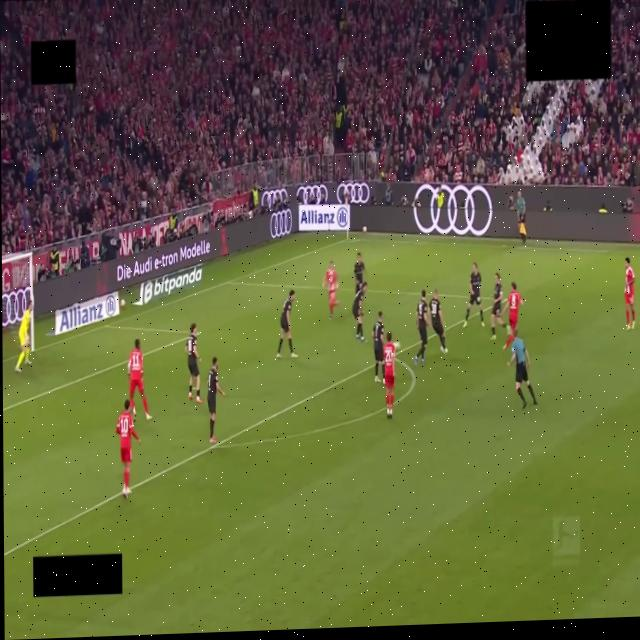ball: (393, 341, 400, 349)
player: (116, 400, 140, 498), (128, 339, 151, 420), (208, 357, 225, 443), (502, 282, 523, 349), (185, 322, 202, 404), (277, 290, 297, 358), (464, 262, 484, 327), (15, 300, 32, 372), (429, 290, 447, 354), (415, 289, 428, 364), (384, 332, 395, 419), (491, 273, 505, 340), (352, 283, 367, 342), (323, 261, 338, 318), (373, 311, 384, 383), (625, 257, 635, 330), (354, 253, 365, 293)
referee: (508, 330, 536, 409)
